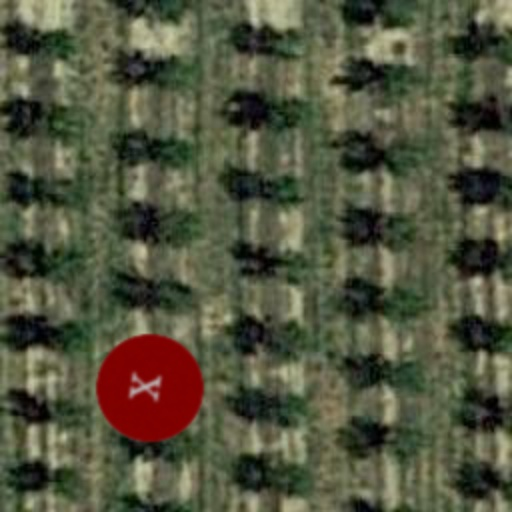circle: (88, 326, 212, 450)
